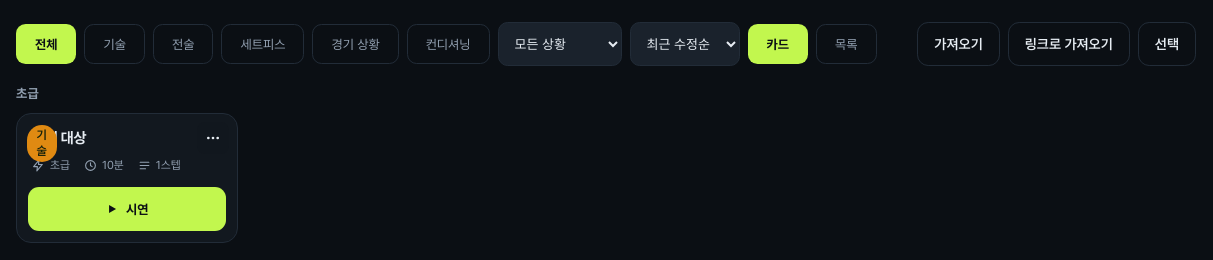
Scenario: LibraryScreen — 드릴 탭 › 복제하면 카드가 하나 늘고 토스트가 뜬다
Expected: the text "복제 대상" is shown, [32,129,86,147]
What coordinates should you click on to do the following:
click the button named "복제 대상 더보기"
I would click on:
 (213, 138)
Its box is [197,122,229,154].
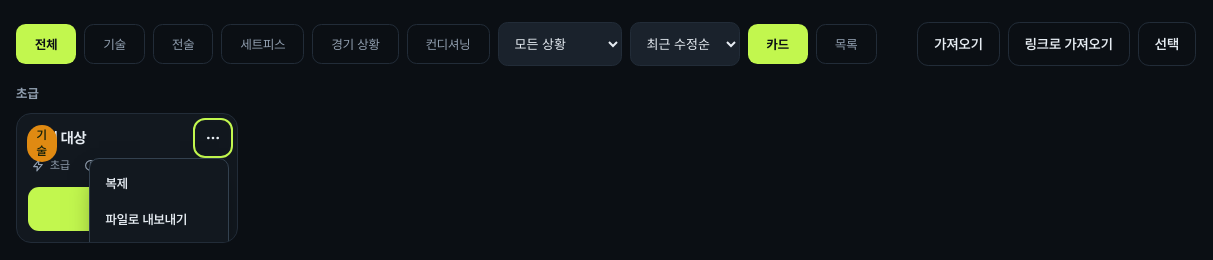
What coordinates should you click on to do the following:
click the menu item "복제"
I would click on:
 (159, 183)
Its box is [96,165,222,201].
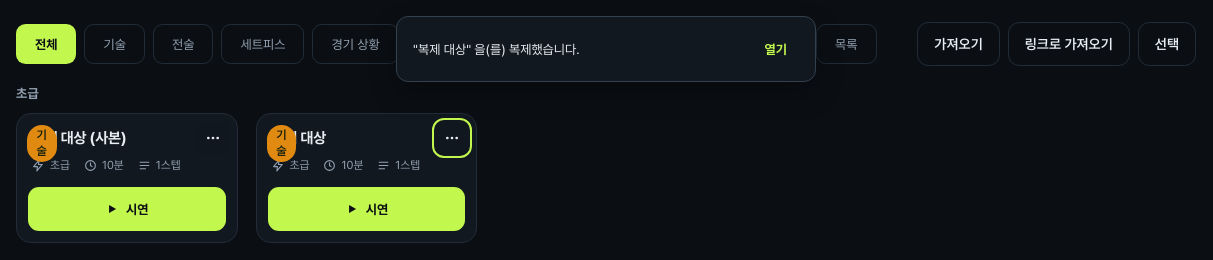
Now the text "복제 대상 (사본)" is shown, box [32,129,126,147]
Now the message shows "복제했습니다", box [413,42,580,56]
